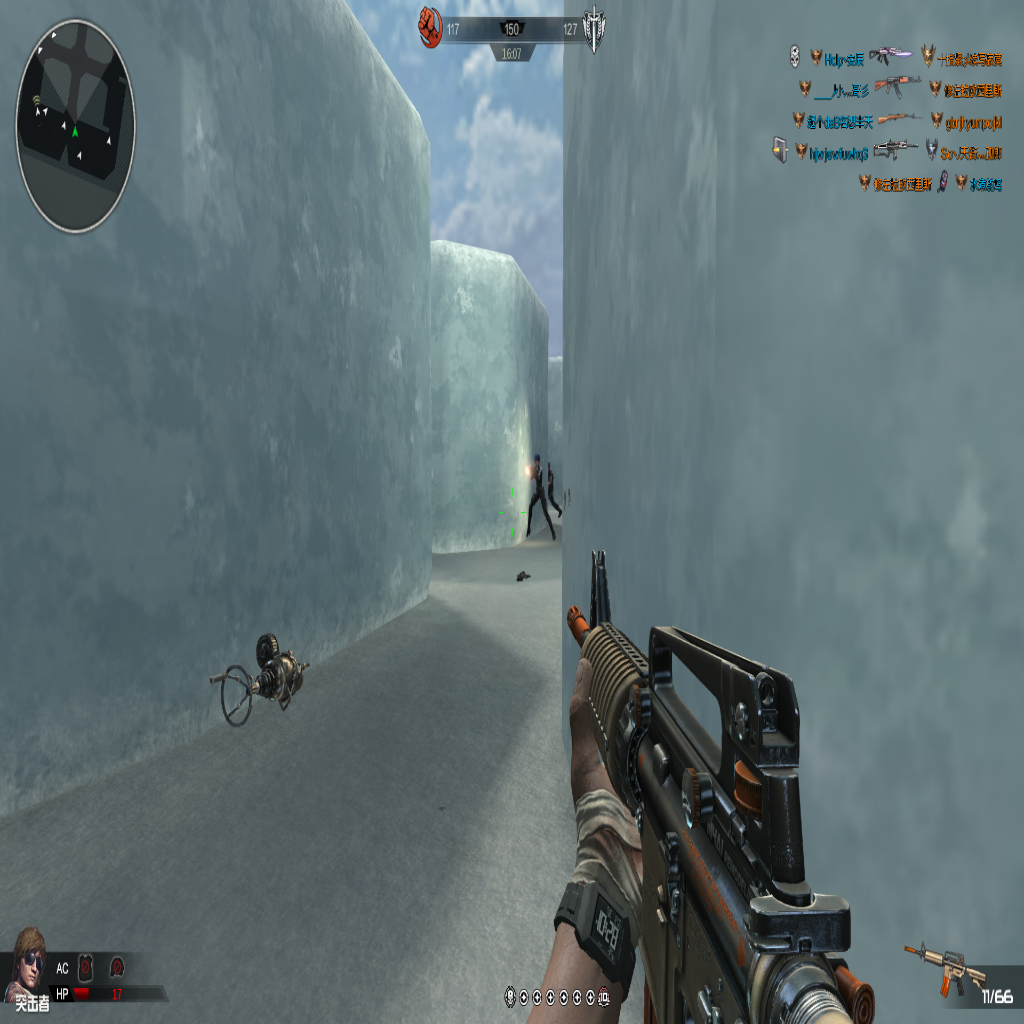ct: (525, 455, 558, 539)
